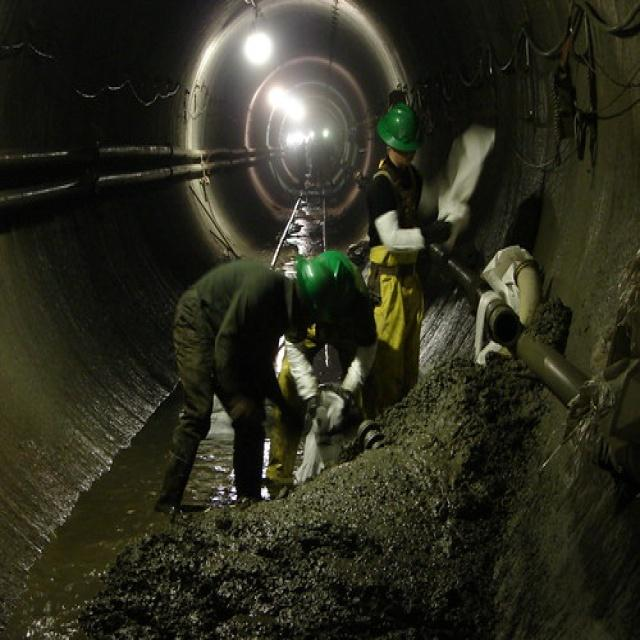helmet: (298, 332, 338, 437), (376, 142, 423, 210)
